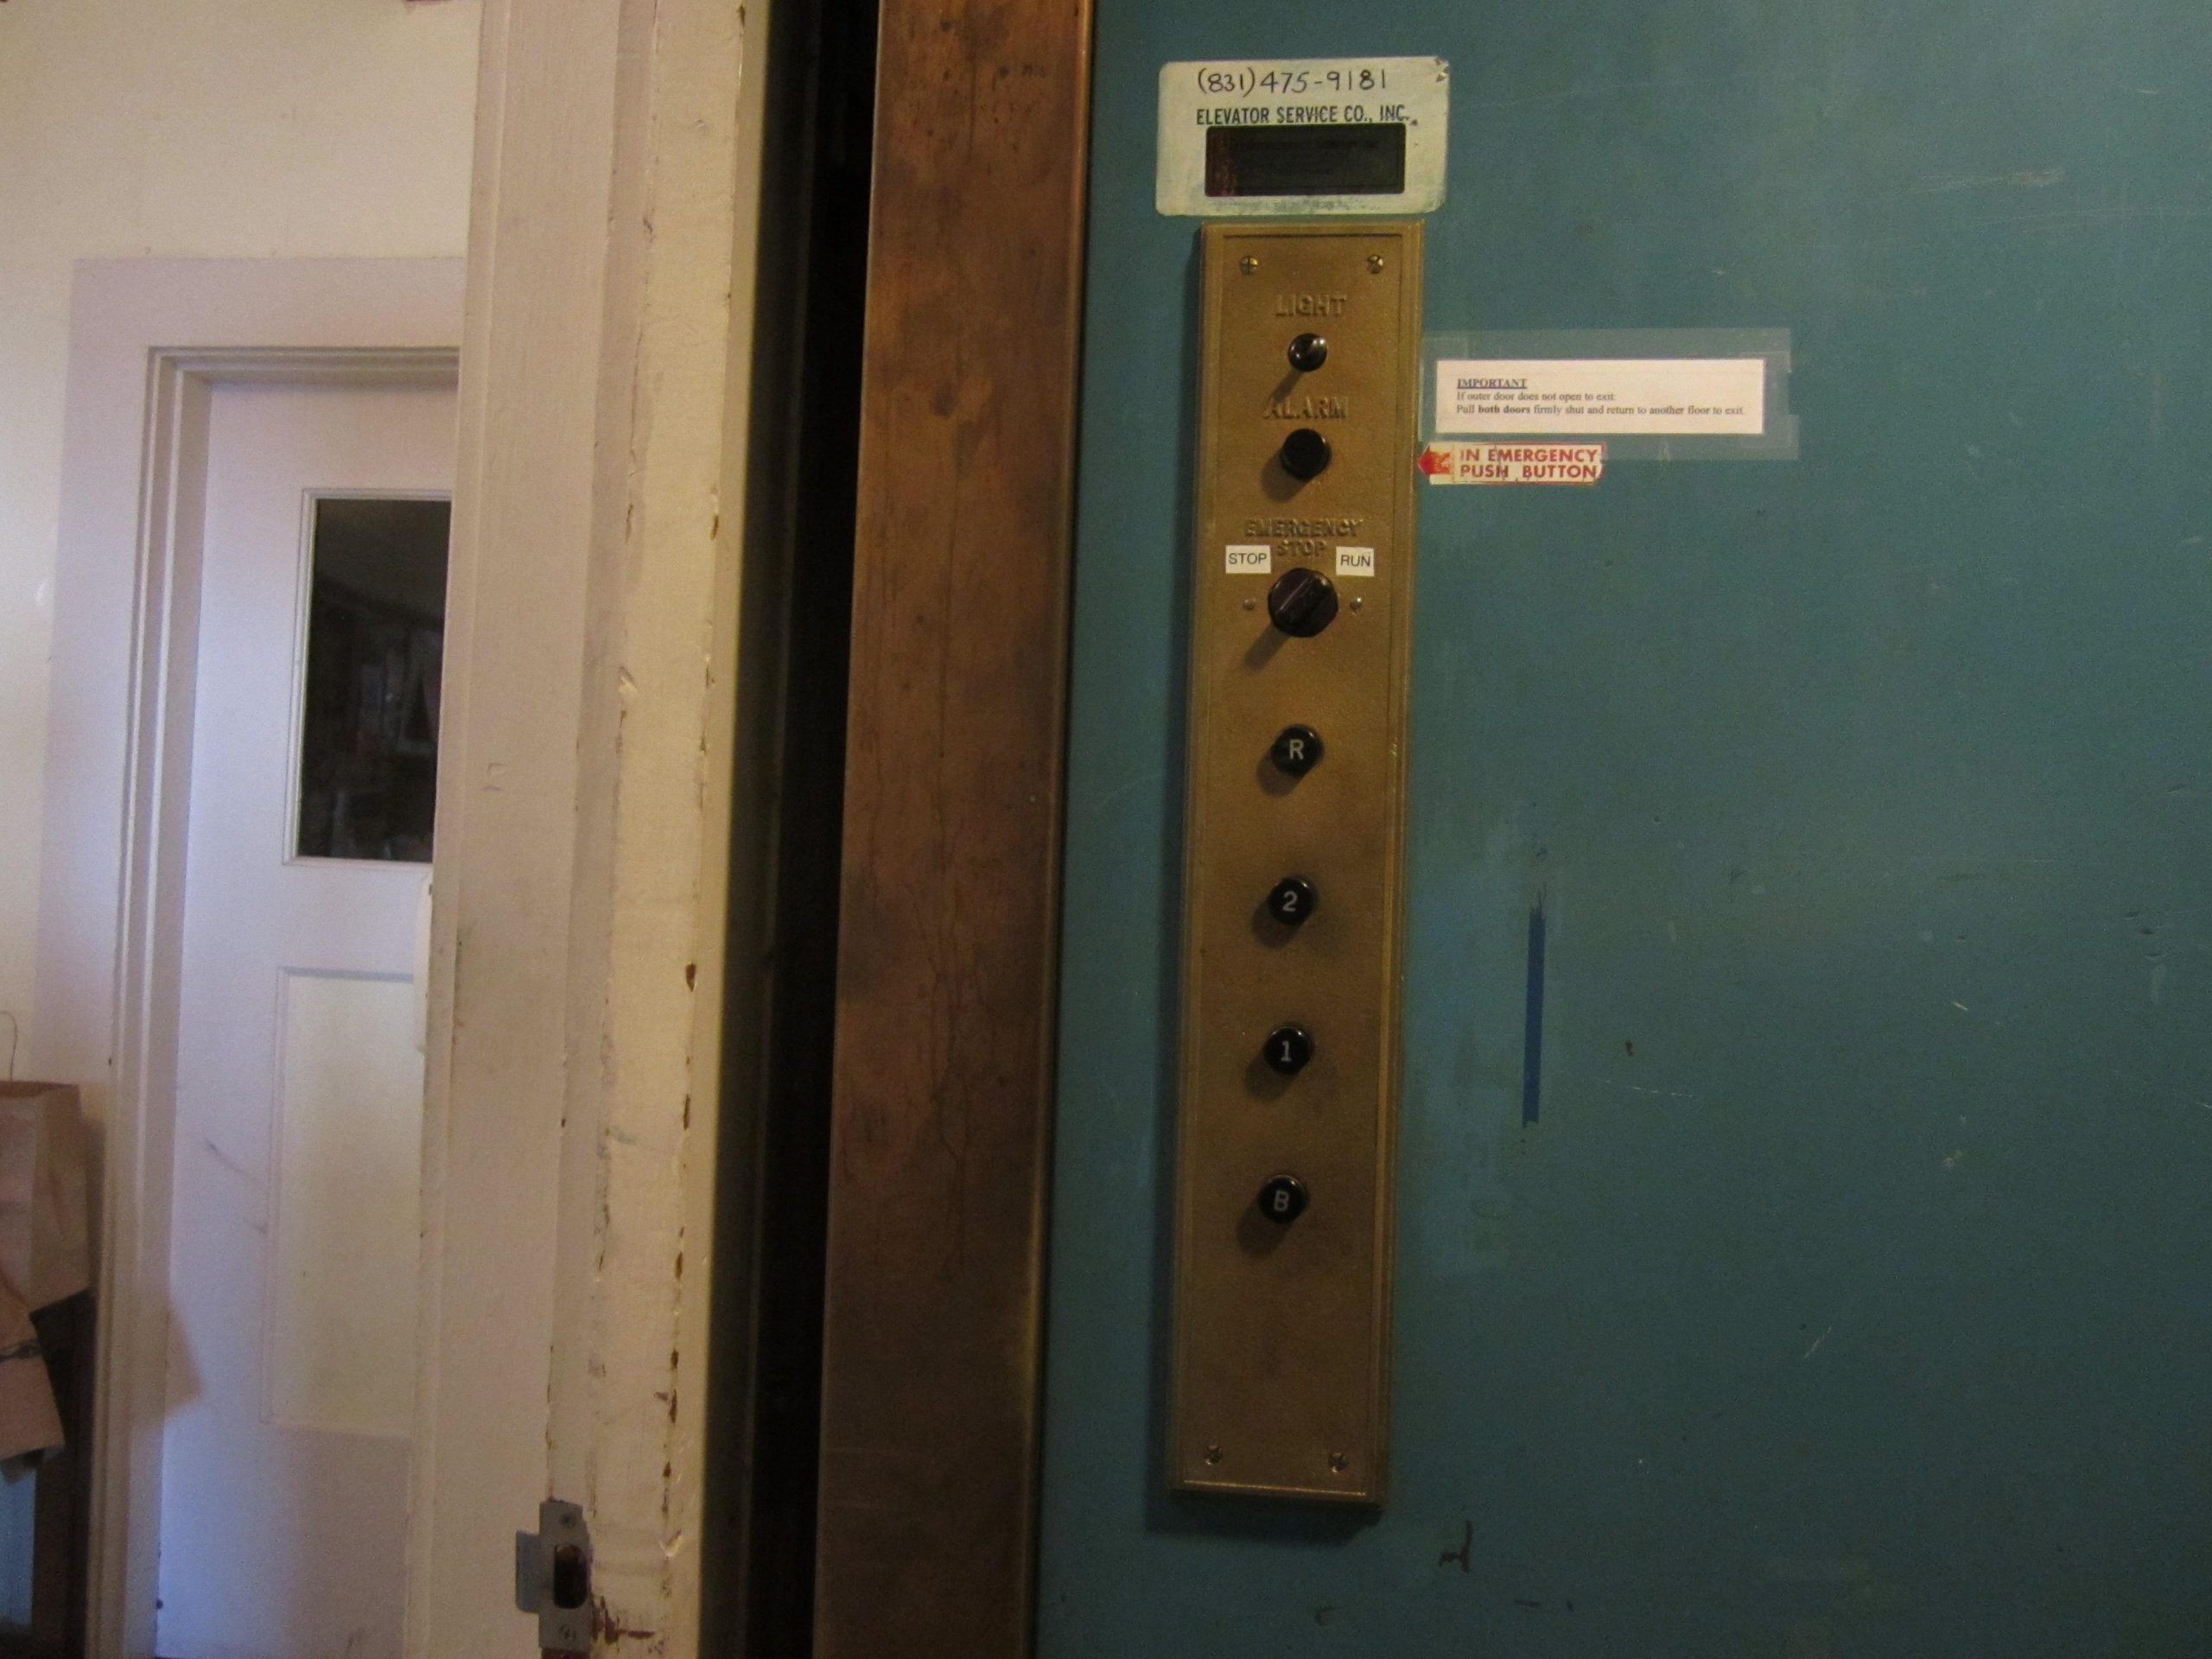1: (1259, 1019, 1317, 1082)
2: (1263, 870, 1320, 932)
B: (1254, 1168, 1312, 1230)
R: (1270, 718, 1327, 781)
empty: (1275, 422, 1332, 483)
led: (1200, 118, 1411, 200)
switch: (1263, 561, 1341, 641)
